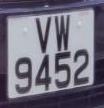2: (72, 47, 92, 88)
4: (33, 51, 55, 95)
5: (52, 50, 75, 92)
9: (13, 50, 36, 99)
V: (32, 13, 55, 55)
W: (51, 13, 74, 54)
